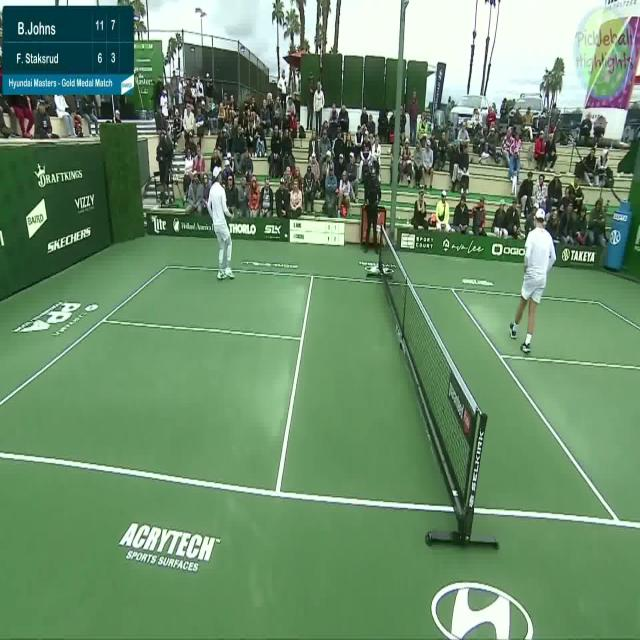ball: (282, 232, 288, 238)
